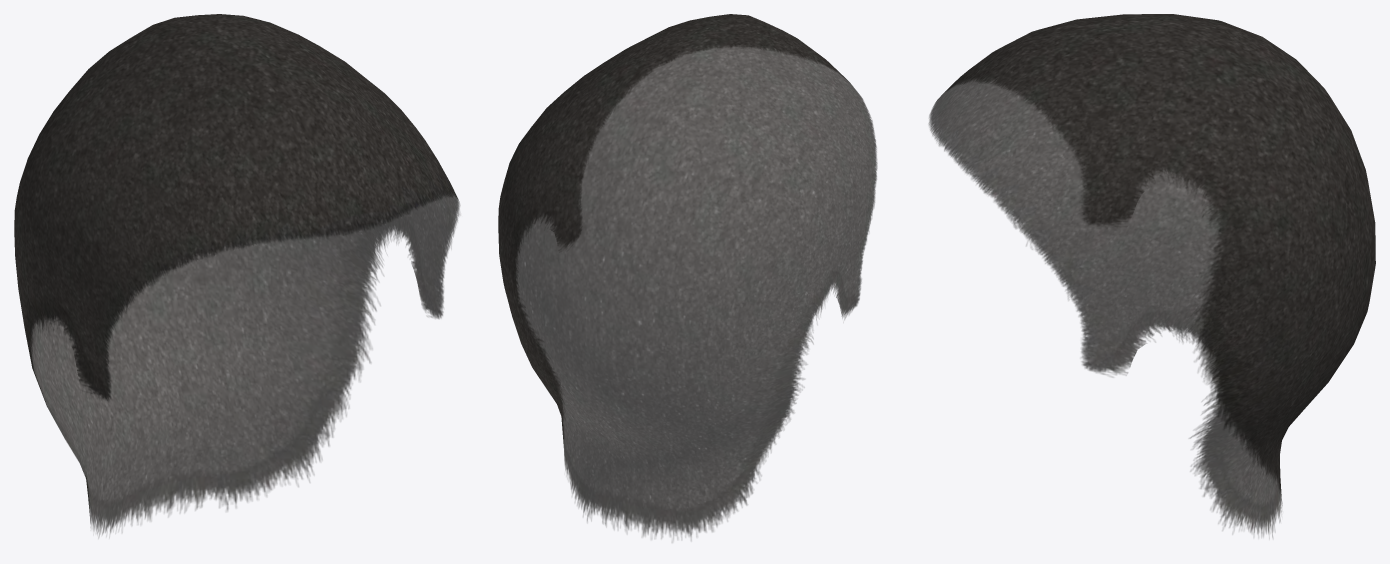
Rendered from lowcut.glb.
3 views of the same model, side by side, from view 1: azimuth 30°, elevation 25°; view 2: azimuth 150°, elevation 25°; view 3: azimuth 270°, elevation 25° (orthographic). The views are drawn at different scales.
Visible parts, largest first — view 1: Object_2; view 2: Object_2; view 3: Object_2.
Boxes of the visible parts, x1,y1,x2,y2 form: Object_2: [14, 14, 460, 537]; Object_2: [498, 14, 877, 542]; Object_2: [928, 14, 1375, 537].
Bounding box in the file's own units: 14.04 × 20.61 × 17.49.
Materials: 1 (1 with a texture image).
